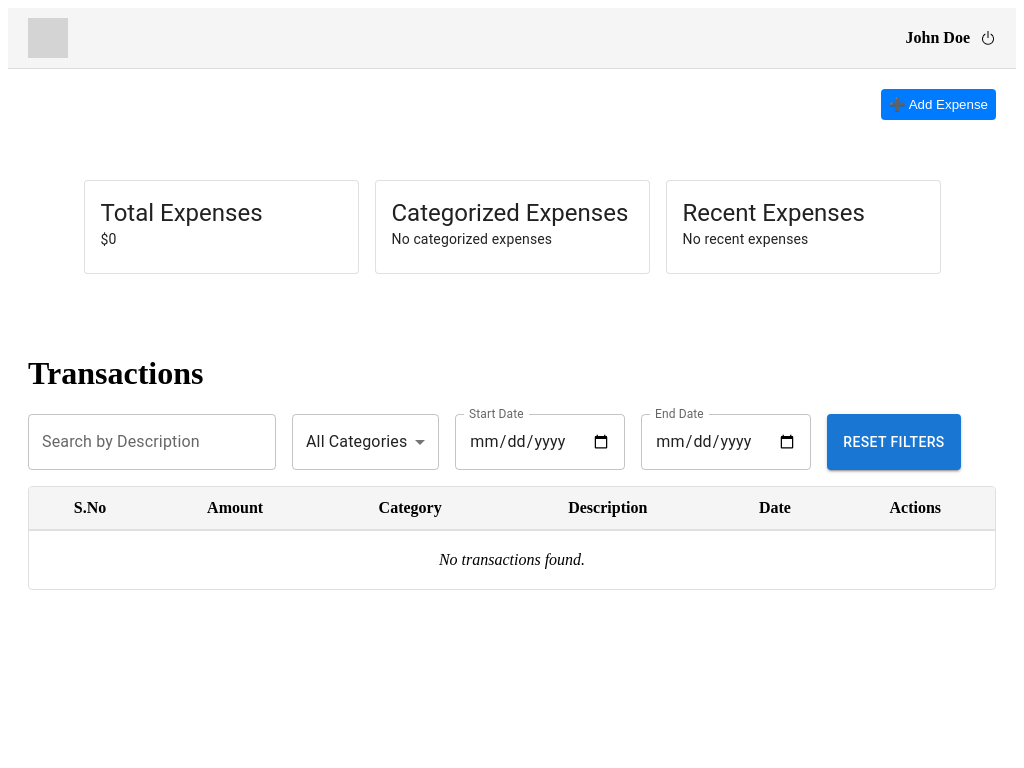
Dashboard Component › opens the Add Expense modal when the button is clicked
Step 1. Click the button "➕ Add Expense" → (939, 104), box [881,89,996,120]
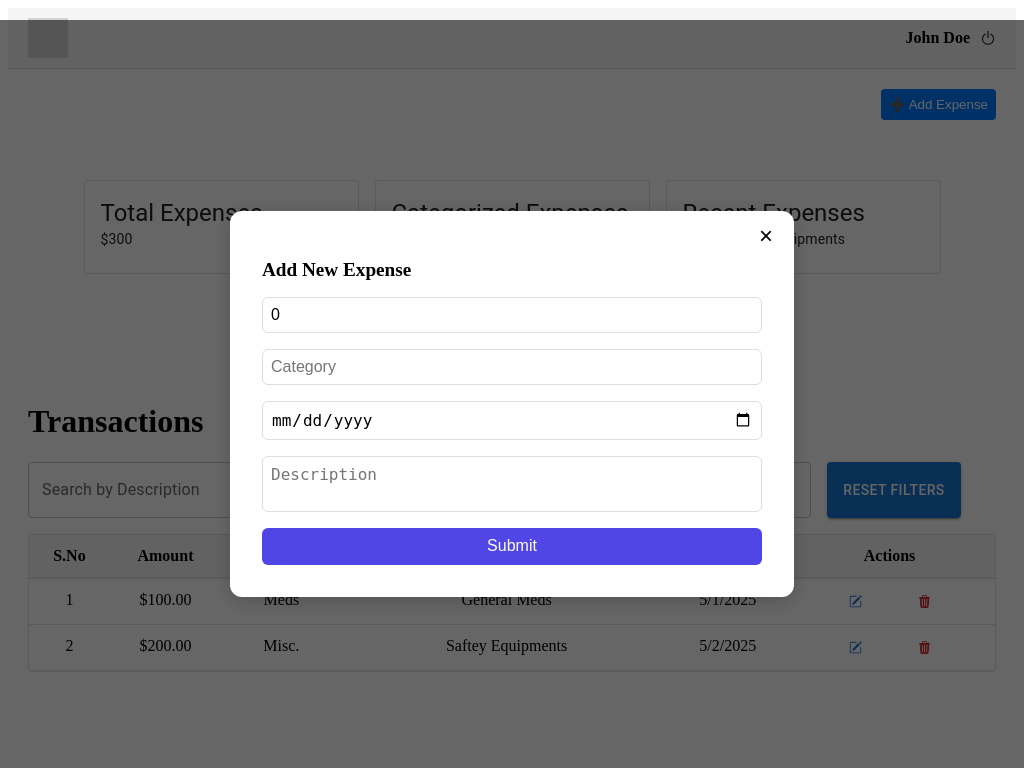
Check: the button "Submit" is shown, box [262,528,762,565]
